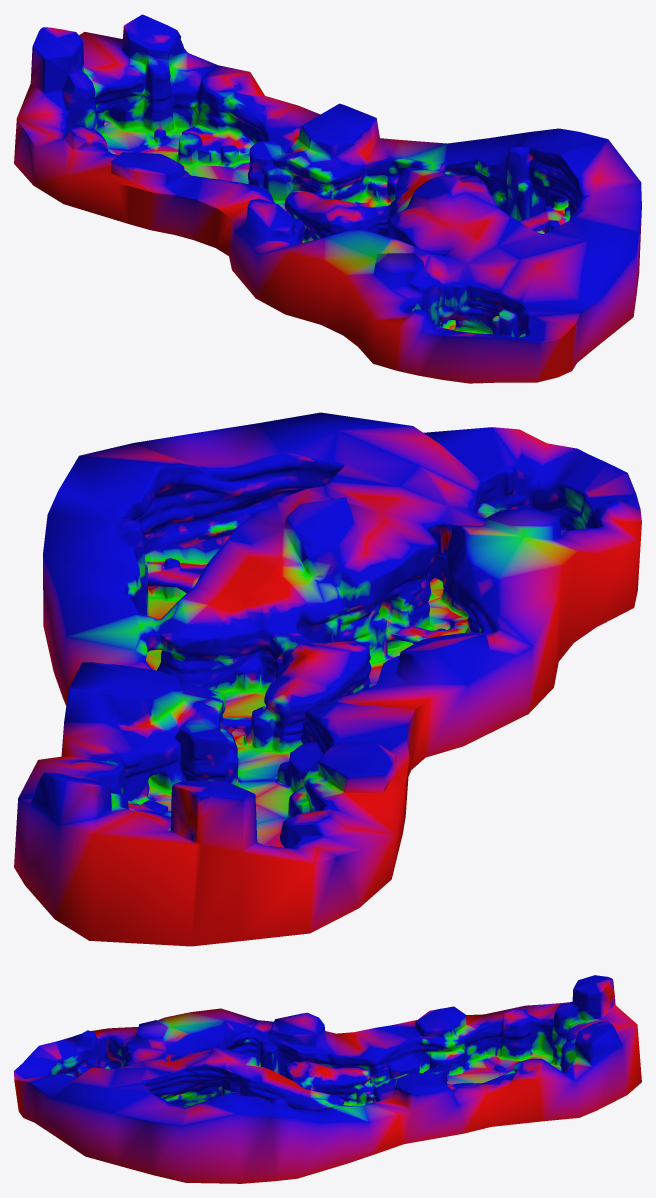
File: level1terrain.fbx
3 renders of one model, top to bottom at view 1: azimuth 30°, elevation 25°; view 2: azimuth 150°, elevation 25°; view 3: azimuth 270°, elevation 25°, orthographic. The views are drawn at different scales.
Parts seen in each view (by area): view 1: terrain; view 2: terrain; view 3: terrain.
Part boxes in pixels (x1=…): terrain: x1=14, y1=14, x2=641, y2=383; terrain: x1=14, y1=412, x2=641, y2=946; terrain: x1=14, y1=975, x2=641, y2=1183.
Size of the model in its own units: 30384 by 7863 by 54707.
